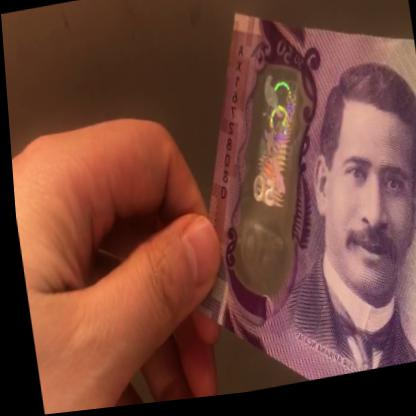50F: (213, 72, 327, 292)
